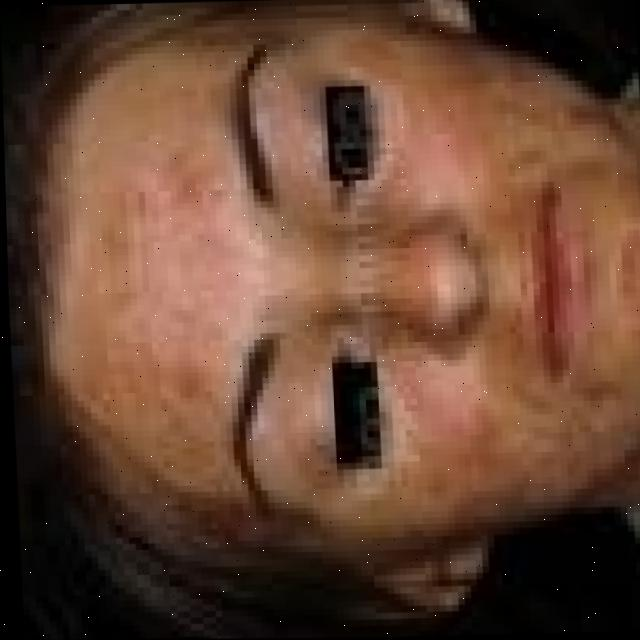Melasma: (399, 369, 588, 506), (144, 342, 236, 423), (501, 65, 594, 144), (171, 167, 242, 229)
